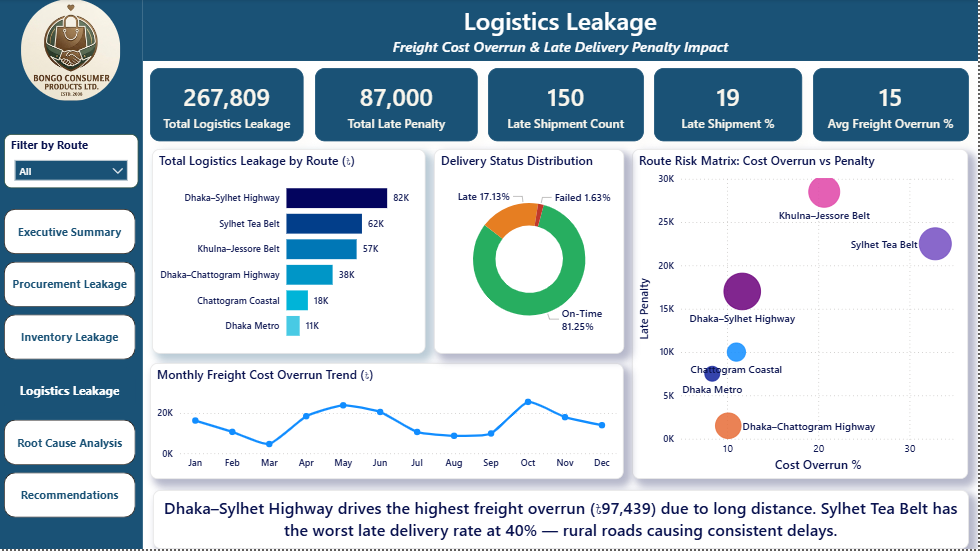

This screenshot's page, from the dashboard's own definition file:
{"tool":"powerbi","page":{"name":"Logistics Leakage","canvas":[1280,720],"ordinal":3},"visuals":[{"type":"shape","box":[0,0,187.2,720],"z":0},{"type":"slicer","title":"Filter by Route","fields":{"Values":["vw_logistics_cost_overrun.route_name"]},"box":[4.6,177.1,175.6,70.9],"z":1000},{"type":"card","fields":{"Values":["_Measures.Total Logistics Leakage"]},"box":[196.8,90.8,200.9,96.3],"z":2000},{"type":"card","fields":{"Values":["_Measures.Total Late Penalty"]},"box":[412.9,90.8,213.3,96.3],"z":3000},{"type":"card","fields":{"Values":["_Measures.Late Shipment Count"]},"box":[638.6,90.8,203.7,96.3],"z":4000},{"type":"card","fields":{"Values":["_Measures.Late Shipment %"]},"box":[856.1,90.8,194.1,96.3],"z":5000},{"type":"card","fields":{"Values":["_Measures.Avg Freight Overrun %"]},"box":[1063.9,90.8,203.7,96.3],"z":6000},{"type":"textbox","box":[187,0,1093,80.6],"z":7000},{"type":"clusteredBarChart","title":"Total Logistics Leakage by Route (৳)","fields":{"Category":["vw_logistics_cost_overrun.route_name"],"Y":["Sum(vw_logistics_cost_overrun.total_leakage_per_shipment)"]},"box":[198.5,196.9,358.5,267.7],"z":8000},{"type":"scatterChart","title":"Route Risk Matrix: Cost Overrun vs Penalty","fields":{"X":["Avg(vw_logistics_cost_overrun.overrun_pct)"],"Y":["Sum(vw_logistics_cost_overrun.late_penalty)"],"Series":["vw_logistics_cost_overrun.route_name"],"Category":["vw_logistics_cost_overrun.route_name"],"Size":["Sum(vw_logistics_cost_overrun.total_leakage_per_shipment)"]},"box":[827.7,196.9,440,432.3],"z":9000},{"type":"lineChart","title":"Monthly Freight Cost Overrun Trend (৳)","fields":{"Y":["Sum(vw_logistics_cost_overrun.freight_overrun)"],"Category":["vw_logistics_cost_overrun.Month_Short"]},"box":[196.9,476.9,620,152.3],"z":10000},{"type":"donutChart","title":"Delivery Status Distribution","fields":{"Category":["vw_logistics_cost_overrun.delivery_status"],"Y":["CountNonNull(vw_logistics_cost_overrun.shipment_id)"]},"box":[567.7,196.9,249.2,267.7],"z":11000},{"type":"textbox","box":[200,643.1,1067.7,76.9],"z":12000},{"type":"image","box":[27.4,0,129.6,133.9],"z":13000},{"type":"pageNavigator","box":[5.8,275,172.8,406.1],"z":14000}]}

Visuals, with their boxes on the page's 1280x720 design canvas (x1, y1, x2, y2). These are canvas units, not pixel positions in the 980x551 screenshot, which may show the page scaled, cropped or inside an application window:
shape: box=[0, 0, 187, 720]
"Filter by Route" slicer: box=[5, 177, 180, 248]
card - _Measures.Total Logistics Leakage: box=[197, 91, 398, 187]
card - _Measures.Total Late Penalty: box=[413, 91, 626, 187]
card - _Measures.Late Shipment Count: box=[639, 91, 842, 187]
card - _Measures.Late Shipment %: box=[856, 91, 1050, 187]
card - _Measures.Avg Freight Overrun %: box=[1064, 91, 1268, 187]
textbox: box=[187, 0, 1280, 81]
"Total Logistics Leakage by Route (৳)" clusteredBarChart: box=[198, 197, 557, 465]
"Route Risk Matrix: Cost Overrun vs Penalty" scatterChart: box=[828, 197, 1268, 629]
"Monthly Freight Cost Overrun Trend (৳)" lineChart: box=[197, 477, 817, 629]
"Delivery Status Distribution" donutChart: box=[568, 197, 817, 465]
textbox: box=[200, 643, 1268, 720]
image: box=[27, 0, 157, 134]
pageNavigator: box=[6, 275, 179, 681]
